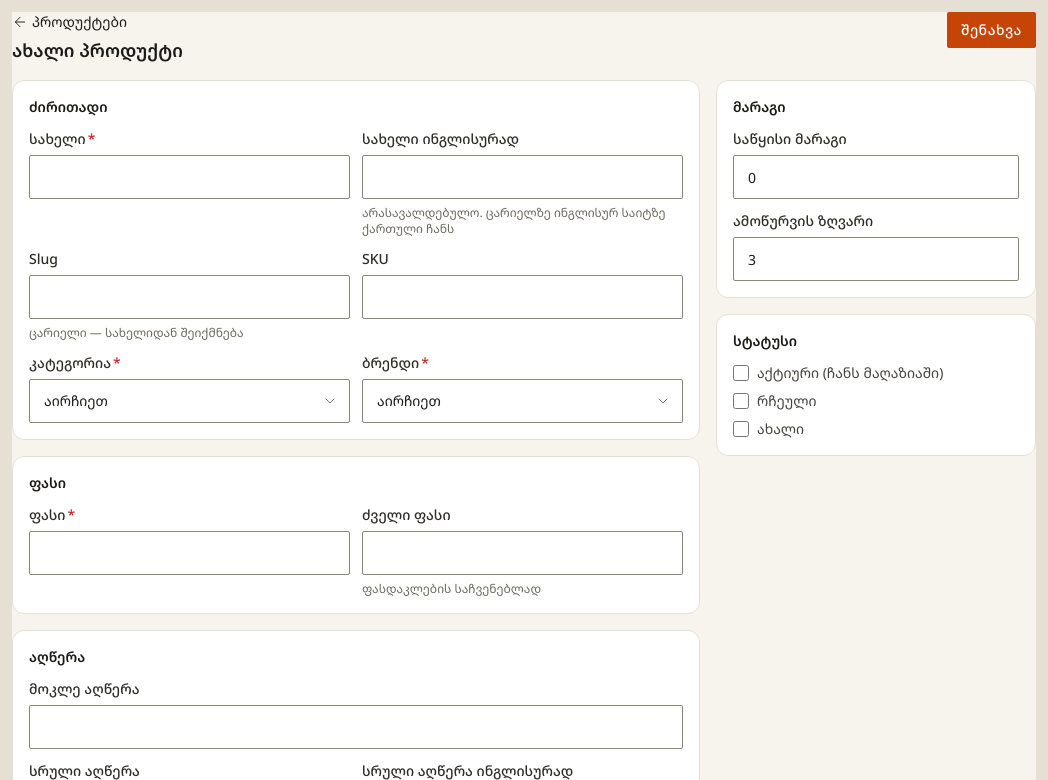
ProductForm server errors › still shows only the field message when the form can render it
Expected: the dropdown labelled "კატეგორია*" is shown, [29,379,350,423]
Step 1. Type "ტესტი" into the field labelled "სახელი*" → {"x": 190, "y": 177}, box [29,155,350,199]
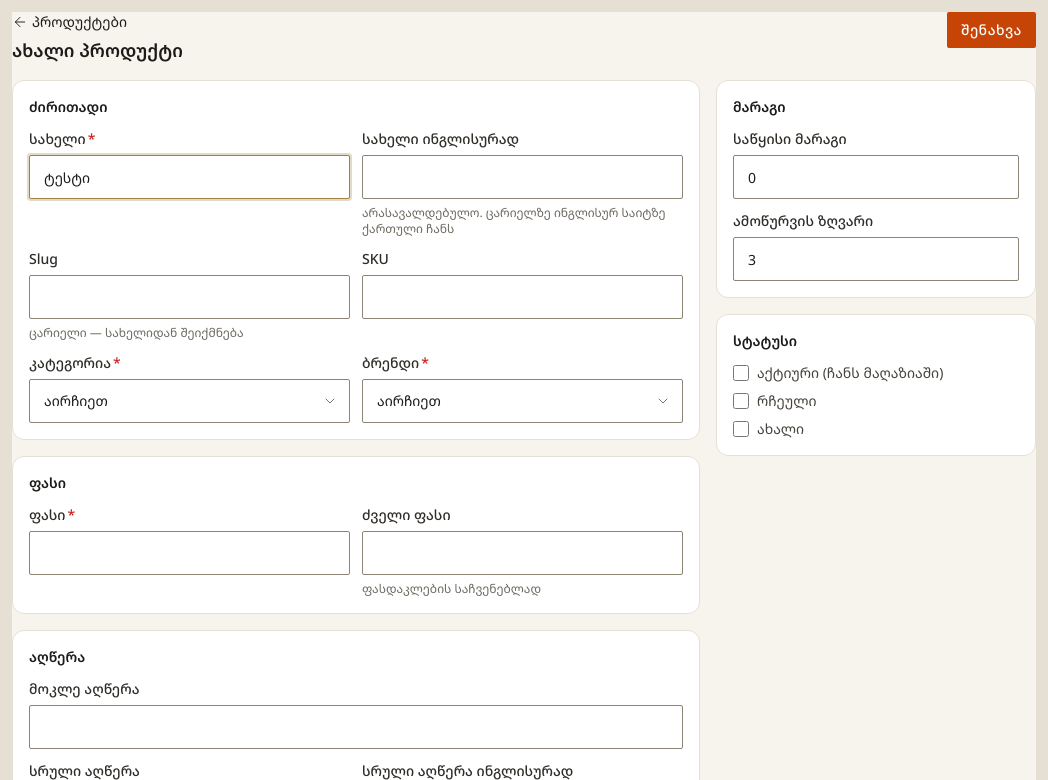
Step 2. Type "10" into the field labelled "ფასი*" → {"x": 190, "y": 553}, box [29,531,350,575]
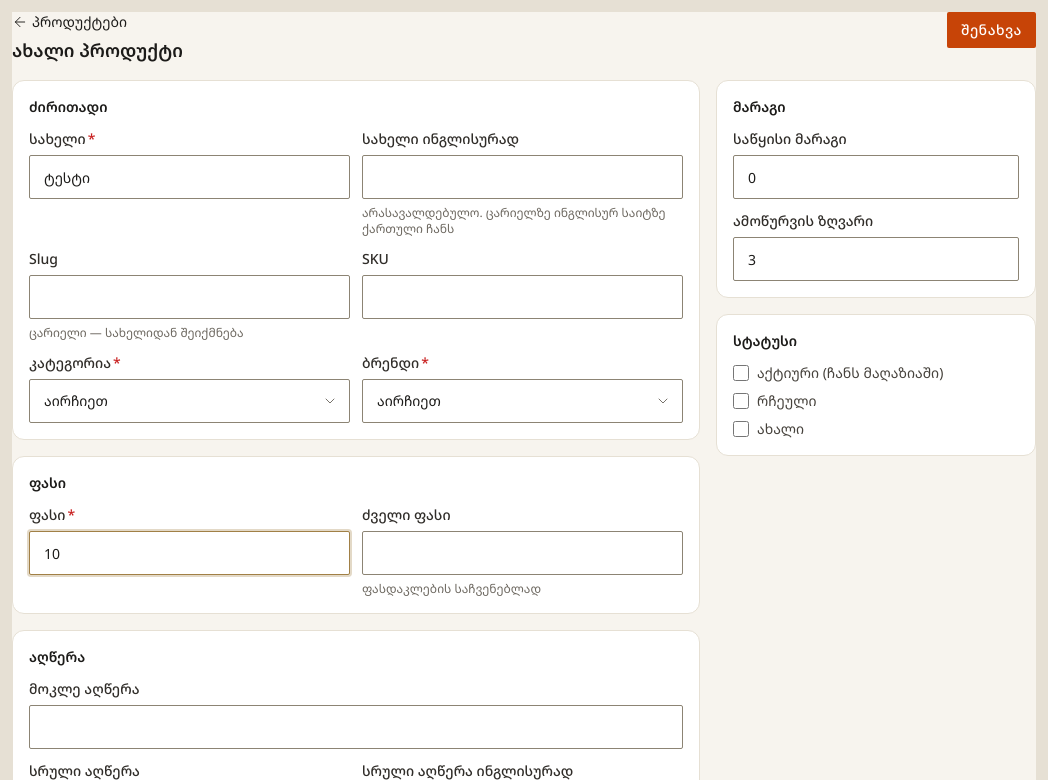
Step 3. Select "ტელეფონები" in the dropdown labelled "კატეგორია*" → {"x": 190, "y": 401}, box [29,379,350,423]
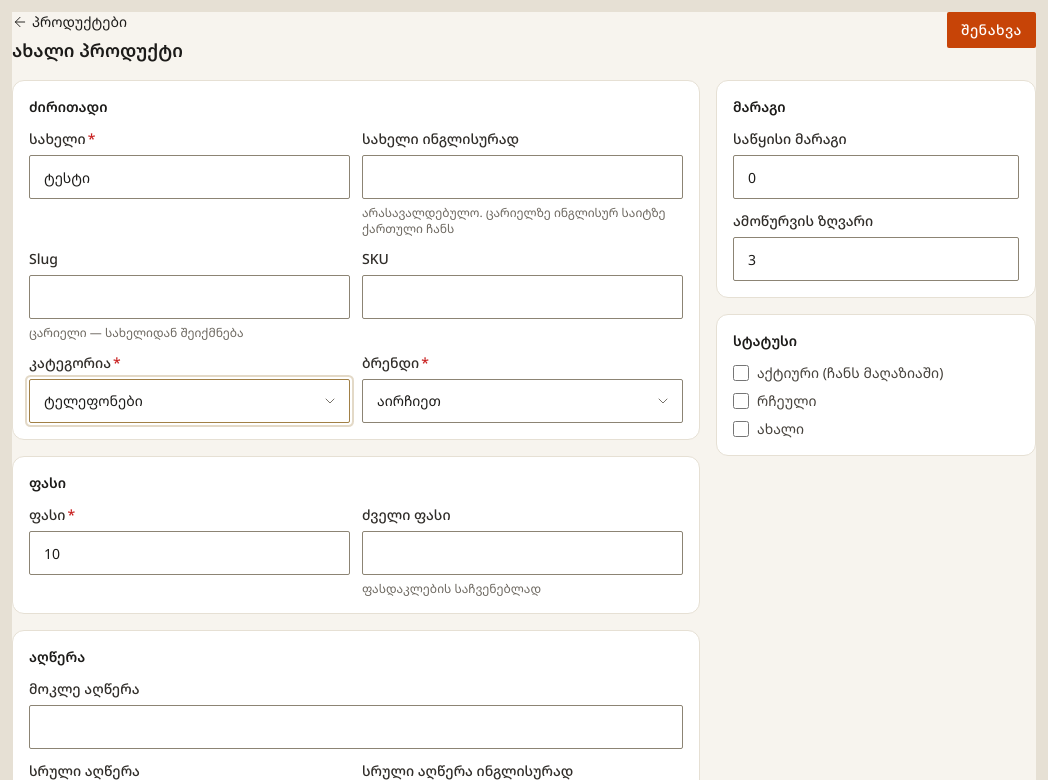
Step 4. Select "Apple" in the dropdown labelled "ბრენდი*" → {"x": 522, "y": 401}, box [362,379,683,423]
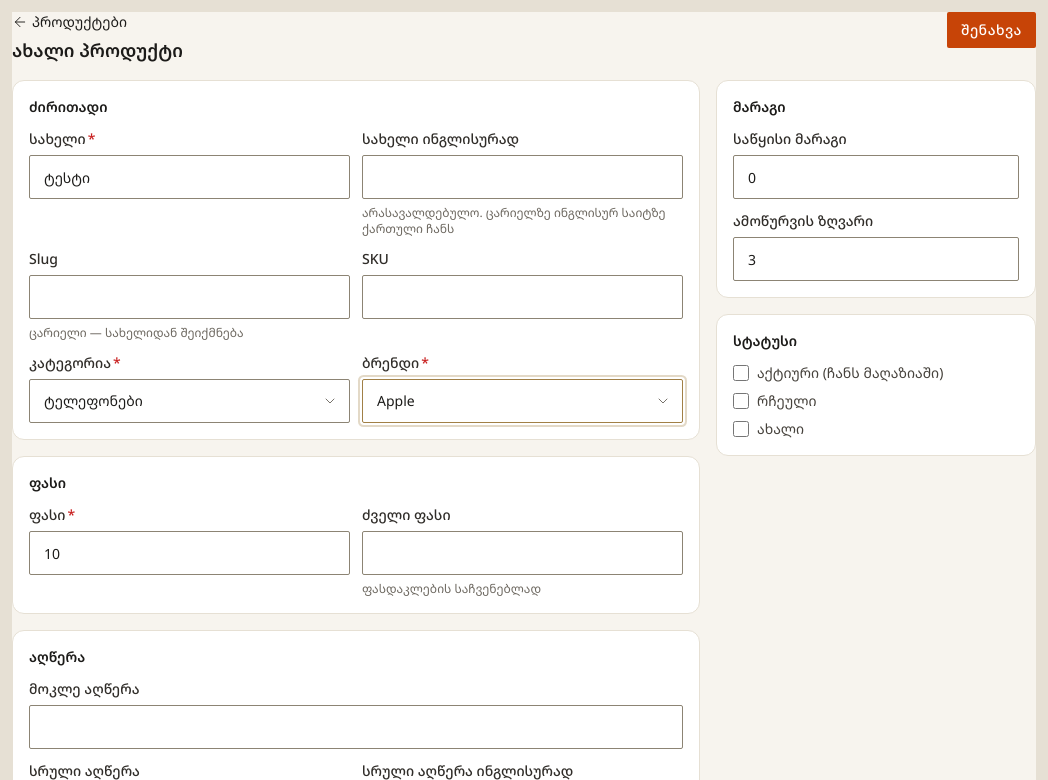
Step 5. Click the button "შენახვა" → {"x": 992, "y": 30}, box [947,12,1036,48]
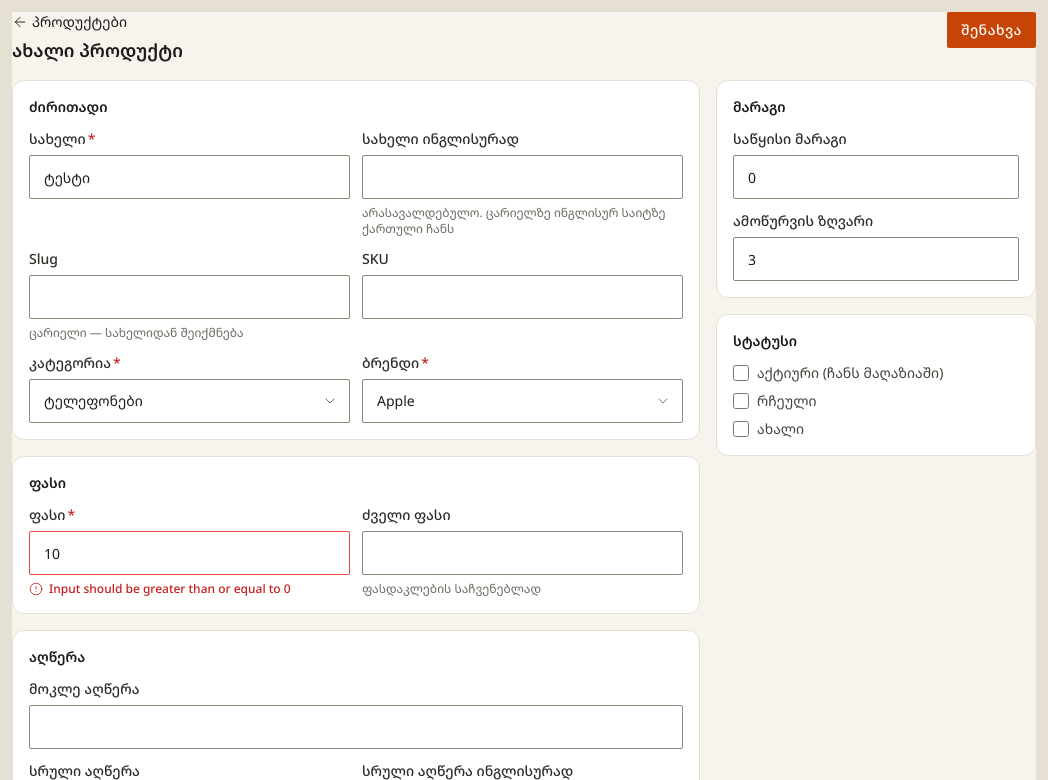
Expected: the text "Input should be greater than or equal to 0" is shown, [29,580,291,597]
